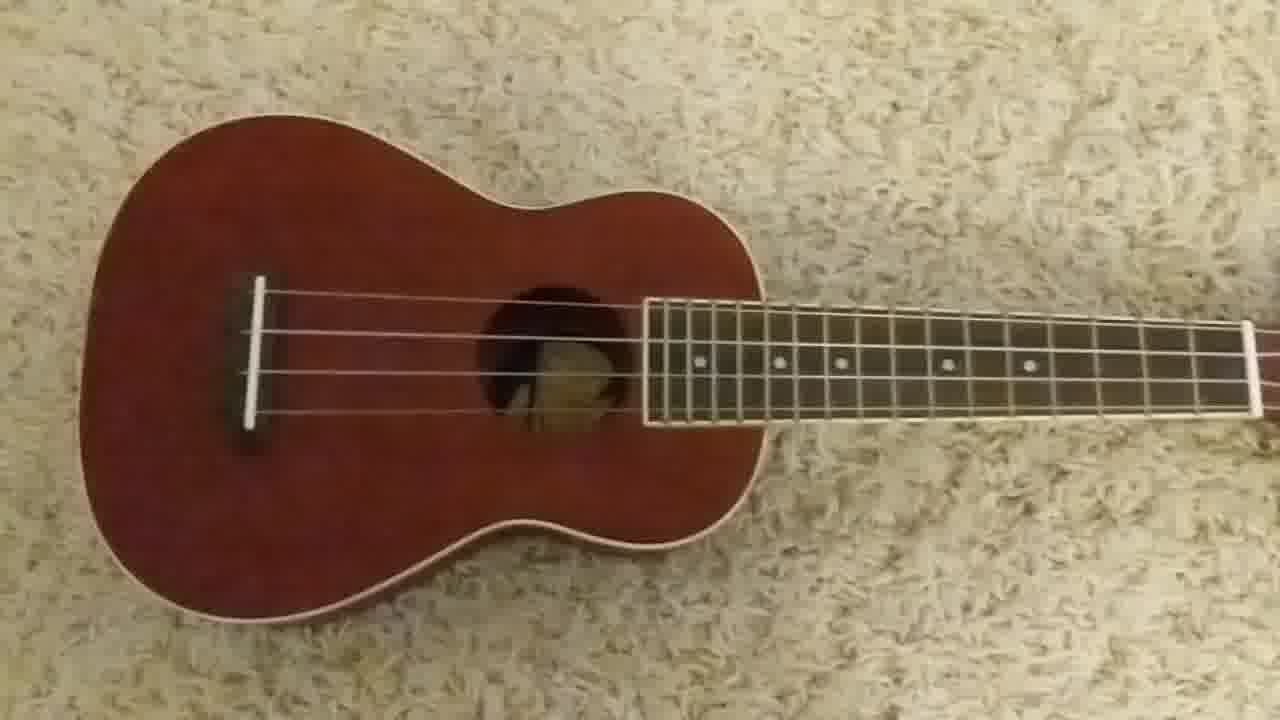Body: (79, 116, 771, 631)
Bridge: (230, 270, 285, 437)
